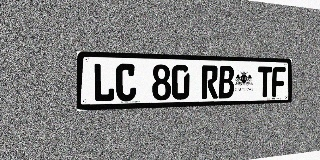0: (171, 65, 189, 100)
8: (152, 64, 171, 100)
B: (218, 66, 234, 98)
C: (116, 63, 136, 101)
F: (272, 67, 285, 97)
L: (93, 63, 115, 102)
R: (202, 65, 218, 99)
T: (258, 66, 272, 97)
